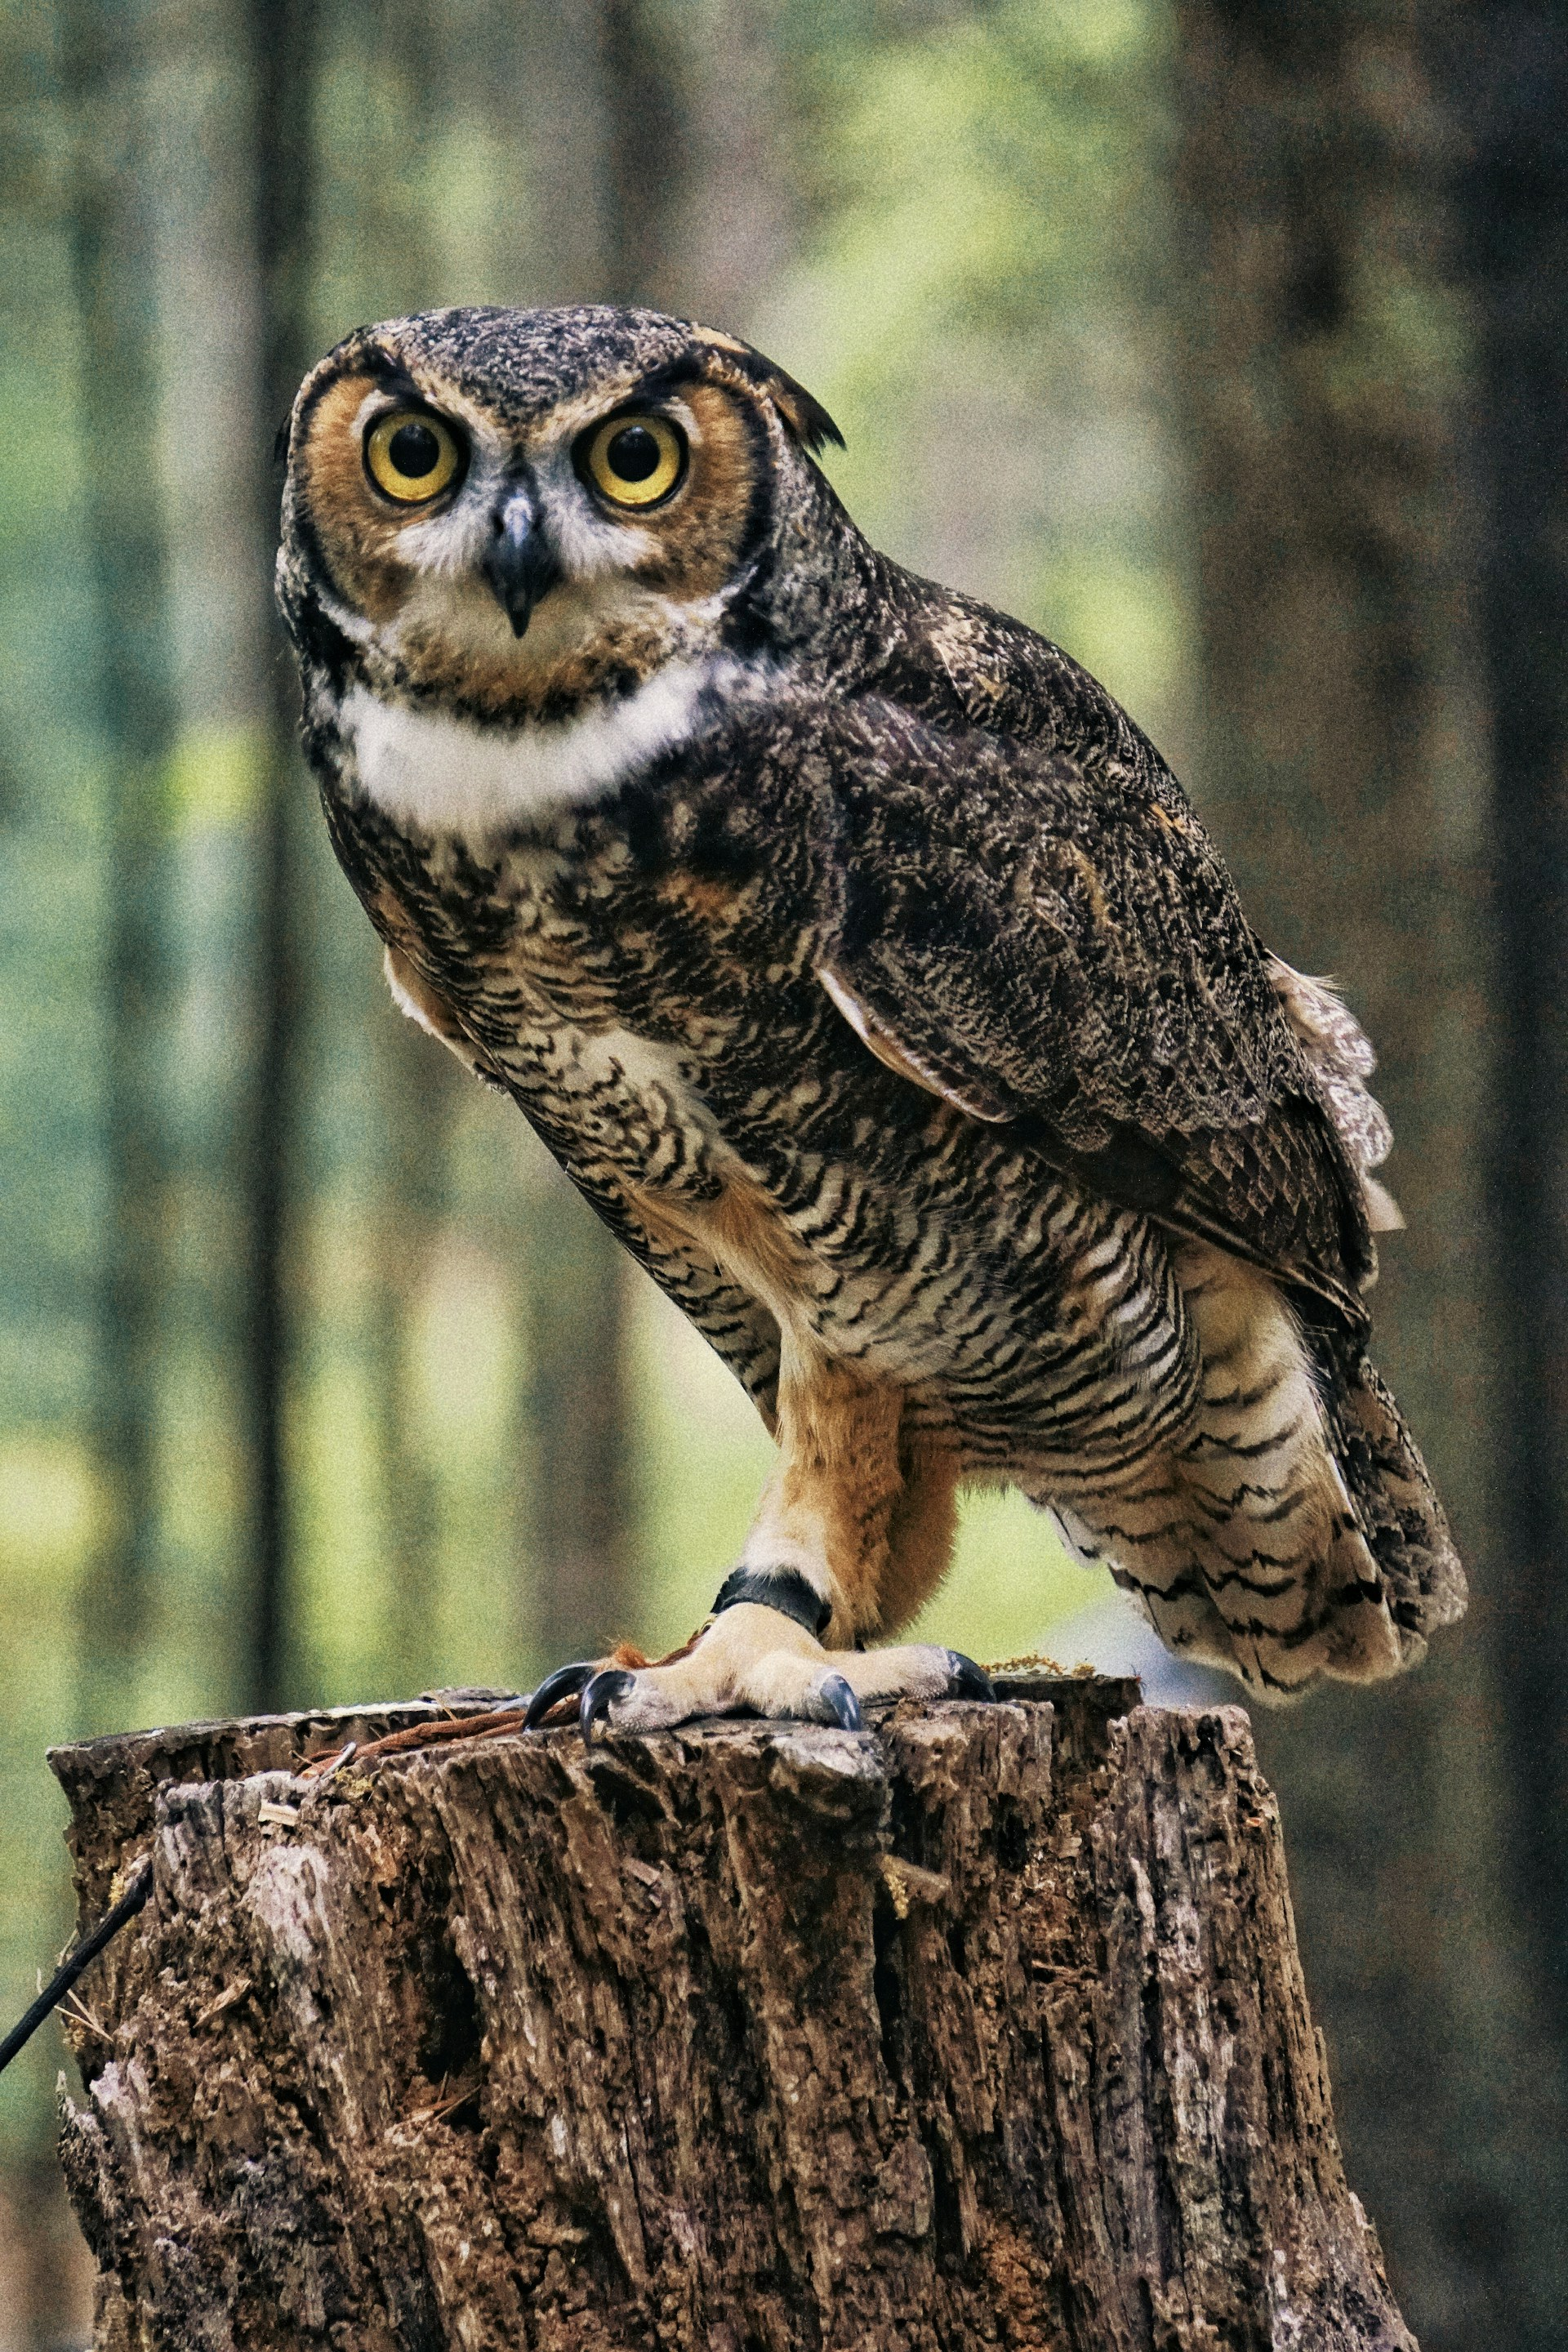owl: (236, 280, 1510, 1813)
